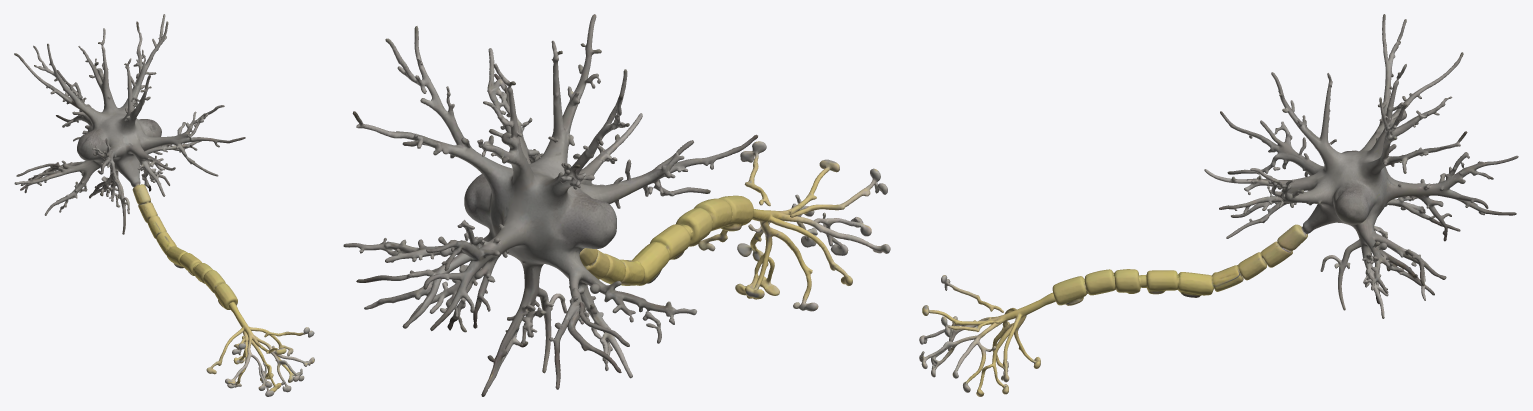
3 renders of one model, left to right at view 1: azimuth 30°, elevation 25°; view 2: azimuth 150°, elevation 25°; view 3: azimuth 270°, elevation 25°, orthographic. The views are drawn at different scales.
Parts seen in each view (by area): view 1: tripo_node_32b8b495-d4c7-4776-a7f6-878a21858d97; view 2: tripo_node_32b8b495-d4c7-4776-a7f6-878a21858d97; view 3: tripo_node_32b8b495-d4c7-4776-a7f6-878a21858d97.
Part boxes in pixels (left/top/right/bottom): tripo_node_32b8b495-d4c7-4776-a7f6-878a21858d97: left=14, top=14, right=314, bottom=396; tripo_node_32b8b495-d4c7-4776-a7f6-878a21858d97: left=343, top=14, right=890, bottom=396; tripo_node_32b8b495-d4c7-4776-a7f6-878a21858d97: left=919, top=14, right=1518, bottom=396.
Bounding box in the file's own units: 0.4891 × 0.6195 × 1.
1 material, 1 textured.
